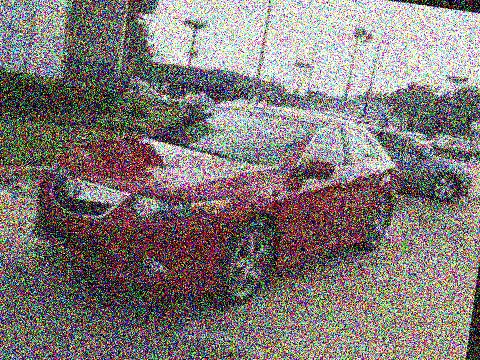car: (15, 62, 414, 336)
